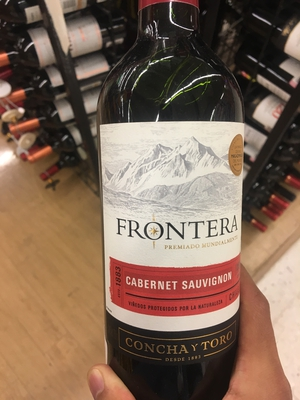frontera cabernet sauvignon: (92, 8, 262, 397)
